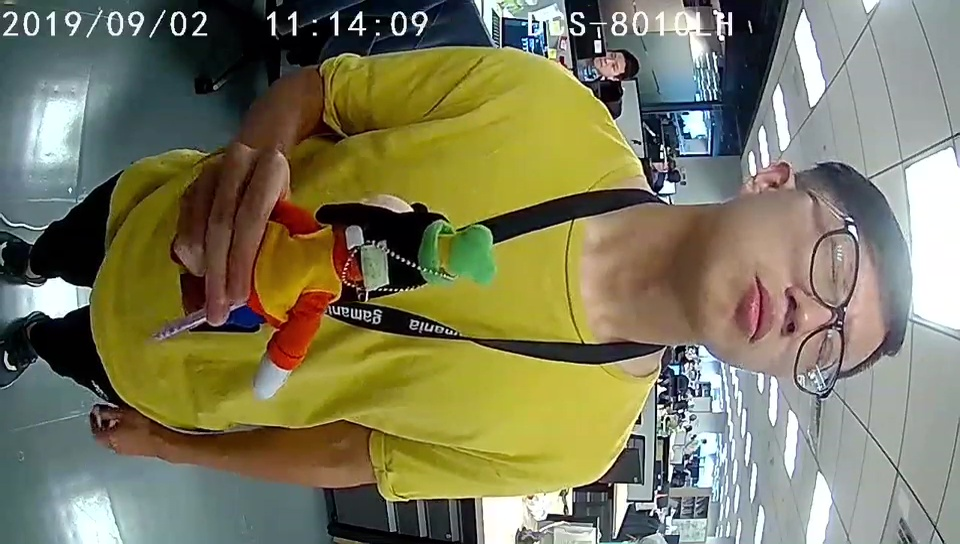goofy: (255, 208, 496, 401)
